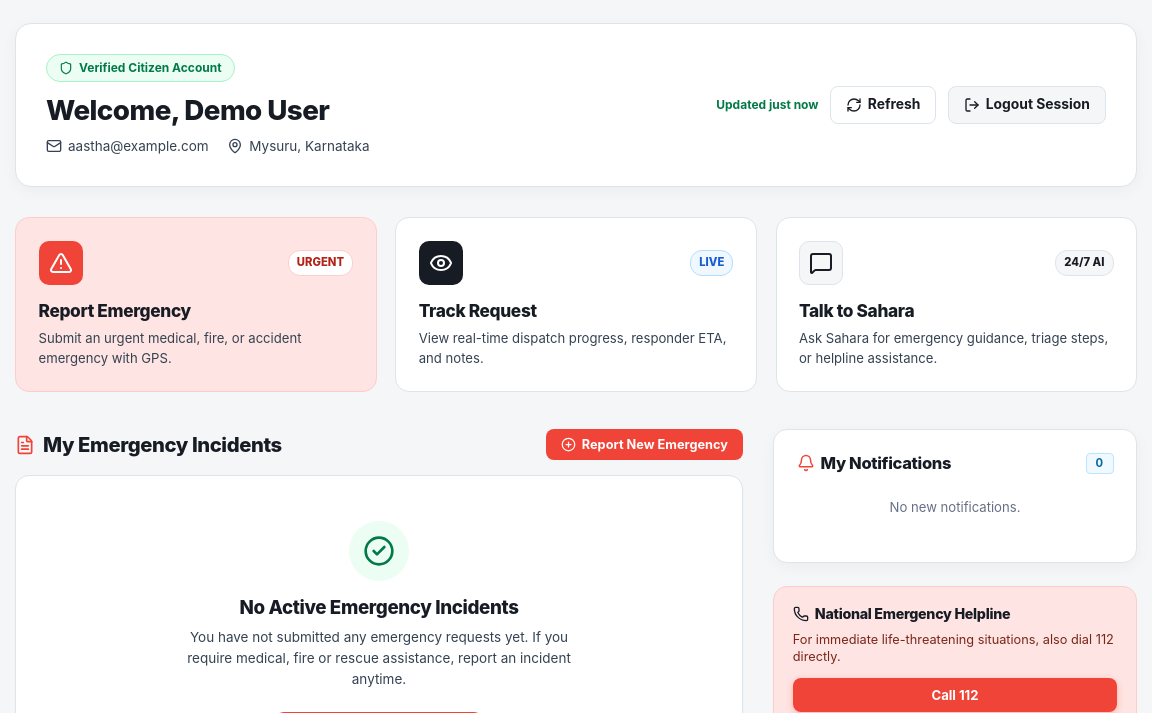
Stage 3 — Notifications & Refresh Tests › Citizen Dashboard Refresh Success & Failure States › displays error feedback and does not claim success when refresh fails
Click the button "Refresh". click: (883, 105)
box: x1=830 y1=86 x2=936 y2=124
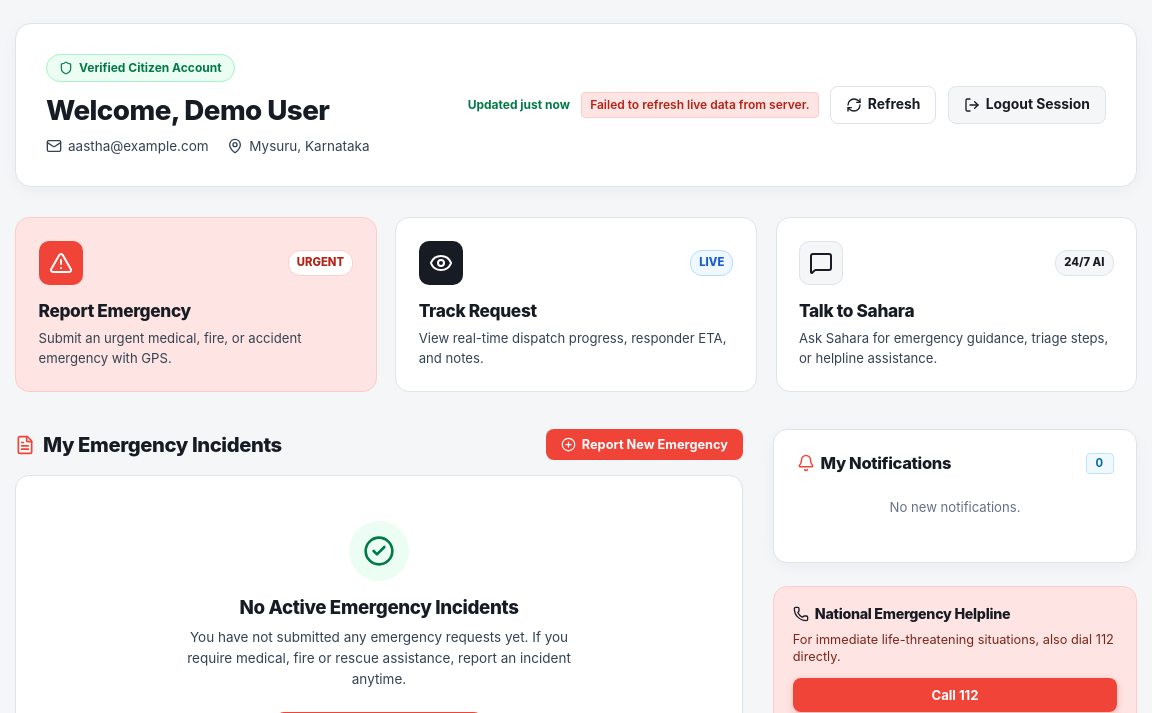
Expected: the text "Failed to refresh live data from server." is shown, x1=581 y1=92 x2=818 y2=118
